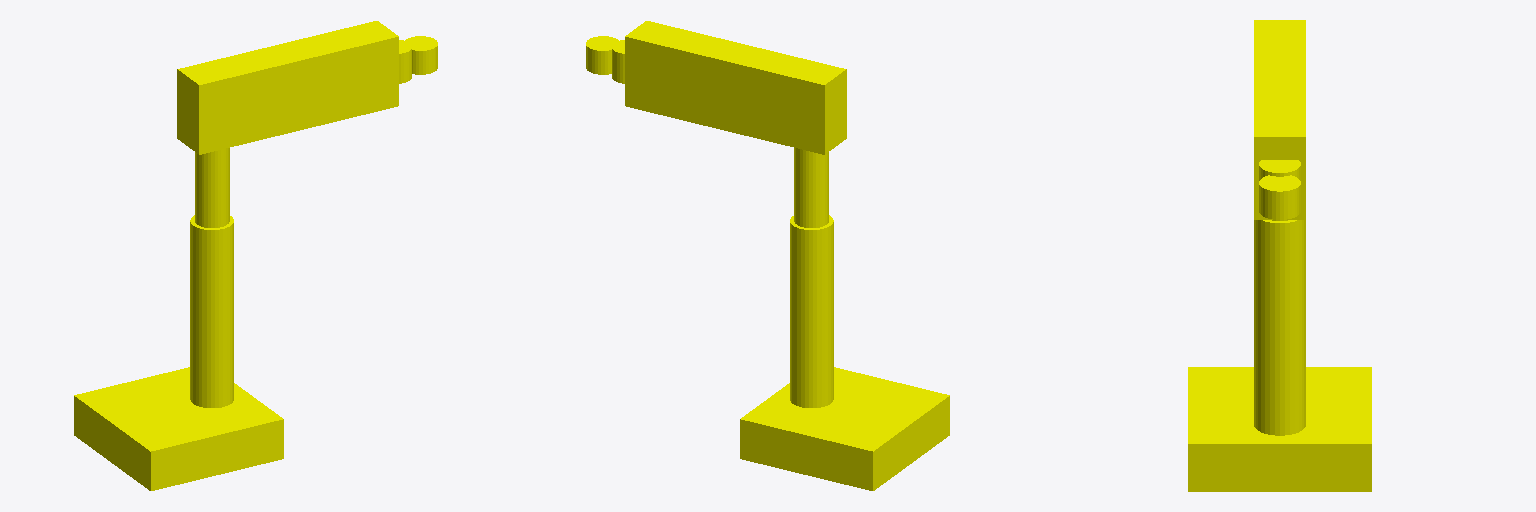
The robot description file, URDF, robot "abb_irb4600_60_205":
<?xml version="1.0" ?>
<!-- =================================================================================== -->
<!-- |    This document was autogenerated by xacro from urdf/irb4600_60_205.xacro      | -->
<!-- |    EDITING THIS FILE BY HAND IS NOT RECOMMENDED                                 | -->
<!-- =================================================================================== -->
<robot xmlns:xacro="http://ros.org/wiki/xacro" name="abb_irb4600_60_205">
  <link name="base_link">
    <collision name="collision">
      <geometry>
        <mesh filename="package://abb_irb4600_support/meshes/irb4600_60_205/collision/base_link.stl"/>
      </geometry>
    </collision>
    <visual name="visual">
      <geometry>
        <box size="0.7 0.7 0.2"/>
        <!-- <mesh filename="package://abb_irb4600_support/meshes/irb4600_60_205/visual/base_link.stl"/> -->
      </geometry>
      <material name="yellow">
        <color rgba="1 1 0 1"/>
      </material>
    </visual>
  </link>
  <link name="link_1">
    <collision name="collision">
      <geometry>
        <mesh filename="package://abb_irb4600_support/meshes/irb4600_60_205/collision/link_1.stl"/>
      </geometry>
    </collision>
    <visual name="visual">
      <geometry>
        <!-- <cylinder length="0.25" radius="0.08"/>   -->
        <!-- <box size="0.3 0.3 0.4"/> -->
        <mesh filename="package://abb_irb4600_support/meshes/irb4600_60_205/visual/link_1.stl"/>
      </geometry>
      <origin xyz="0 0 -0.25" rpy="0 0 0"/>
      <material name="yellow"/>
    </visual>
  </link>
  <link name="link_2">
    <collision name="collision">
      <geometry>
        <mesh filename="package://abb_irb4600_support/meshes/irb4600_60_205/collision/link_2.stl"/>
      </geometry>
    </collision>
    <visual name="visual">
      <geometry>
        <cylinder length="1" radius="0.1"/>
        <!-- <mesh filename="package://abb_irb4600_support/meshes/irb4600_60_205/visual/link_2.stl"/> -->
      </geometry>
      <origin xyz="0 0 0" rpy="0 0 0"/>
      <material name="yellow"/>
    </visual>
  </link>
  <link name="link_3">
    <collision name="collision">
      <geometry>
        <mesh filename="package://abb_irb4600_support/meshes/irb4600_60_205/collision/link_3.stl"/>
      </geometry>
    </collision>
    <visual name="visual">
      <geometry>
        <cylinder length="0.4" radius="0.08"/>
        <!-- <mesh filename="package://abb_irb4600_support/meshes/irb4600_60_205/visual/link_3.stl"/> -->
      </geometry>
      <origin xyz="0 0 -0.2" rpy="0 0 0"/>
      <material name="yellow"/>
    </visual>
  </link>
  <link name="link_4">
    <collision name="collision">
      <geometry>
        <mesh filename="package://abb_irb4600_support/meshes/irb4600_60_205/collision/link_4.stl"/>
      </geometry>
    </collision>
    <visual name="visual">
      <geometry>
        <!-- <cylinder length="0.7" radius="0.08"/> -->
        <box size="1.05 0.2 0.35"/>
        <!-- <mesh filename="package://abb_irb4600_support/meshes/irb4600_60_205/visual/link_4.stl"/> -->
      </geometry>
      <origin xyz="0.4 0 0" rpy="0 0 0"/>
      <material name="yellow"/>
    </visual>
  </link>
  <link name="link_5">
    <collision name="collision">
      <geometry>
        <mesh filename="package://abb_irb4600_support/meshes/irb4600_60_205/collision/link_5.stl"/>
      </geometry>
    </collision>
    <visual name="visual">
      <geometry>
        <cylinder length="0.15" radius="0.08"/>
        <!-- <mesh filename="package://abb_irb4600_support/meshes/irb4600_60_205/visual/link_5.stl"/> -->
      </geometry>
      <material name="yellow"/>
    </visual>
  </link>
  <link name="link_6">
    <collision name="collision">
      <geometry>
        <mesh filename="package://abb_irb4600_support/meshes/irb4600_60_205/collision/link_6.stl"/>
      </geometry>
    </collision>
    <visual name="visual">
      <geometry>
        <cylinder length="0.12" radius="0.08"/>
        <!-- <mesh filename="package://abb_irb4600_support/meshes/irb4600_60_205/visual/link_6.stl"/> -->
      </geometry>
      <material name="yellow"/>
    </visual>
  </link>
  <link name="tool0"/>
  <joint type="revolute" name="joint_1">
    <origin xyz="0 0 0.495" rpy="0 0 0"/>
    <!-- <origin xyz="0 0 0.595" rpy="0 0 0"/> -->
    <axis xyz="0 0 1"/>
    <parent link="base_link"/>
    <child link="link_1"/>
    <limit effort="0" lower="-3.141" upper="3.141" velocity="3.054"/>
  </joint>
  <joint type="revolute" name="joint_2">
    <origin xyz="0.175 0 0" rpy="0 0 0"/>
    <!-- <origin xyz="0.275 0 0" rpy="0 0 0"/> -->
    <axis xyz="0 1 0"/>
    <parent link="link_1"/>
    <child link="link_2"/>
    <limit effort="0" lower="-1.570" upper="2.617" velocity="3.054"/>
  </joint>
  <joint type="revolute" name="joint_3">
    <origin xyz="0 0 0.9" rpy="0 0 0"/>
    <axis xyz="0 1 0"/>
    <parent link="link_2"/>
    <child link="link_3"/>
    <limit effort="0" lower="-3.141" upper="1.308" velocity="3.054"/>
  </joint>
  <joint type="revolute" name="joint_4">
    <origin xyz="0 0 0.175" rpy="0 0 0"/>
    <axis xyz="1 0 0"/>
    <parent link="link_3"/>
    <child link="link_4"/>
    <limit effort="0" lower="-6.981" upper="6.981" velocity="4.363"/>
  </joint>
  <joint type="revolute" name="joint_5">
    <origin xyz="0.960 0 0 " rpy="0 0 0"/>
    <axis xyz="0 1 0"/>
    <parent link="link_4"/>
    <child link="link_5"/>
    <limit effort="0" lower="-2.181" upper="2.094" velocity="4.363"/>
  </joint>
  <joint type="revolute" name="joint_6">
    <origin xyz="0.135 0 0 " rpy="0 0 0"/>
    <axis xyz="1 0 0"/>
    <parent link="link_5"/>
    <child link="link_6"/>
    <limit effort="0" lower="-6.981" upper="6.981" velocity="6.283"/>
  </joint>
  <joint type="fixed" name="joint_6-tool0">
    <parent link="link_6"/>
    <child link="tool0"/>
    <origin xyz="0 0 0" rpy="0 1.57079632679 0"/>
  </joint>
  <link name="base"/>
  <joint name="base_link-base" type="fixed">
    <origin xyz="0 0 0" rpy="0 0 0"/>
    <parent link="base_link"/>
    <child link="base"/>
  </joint>
</robot>

--- Facts derived from the render (not from the file) ---
3 views of the same robot in one strip: view 1: azimuth 30°, elevation 25°; view 2: azimuth 150°, elevation 25°; view 3: azimuth 270°, elevation 25° (orthographic).
Model abb_irb4600_60_205 with 9 links and 8 joints (6 revolute, 2 fixed), rooted at base_link, posed every joint at zero.
Visible links, largest first — view 1: link_4, base_link, link_2, link_3, link_6, link_5; view 2: link_4, base_link, link_2, link_3, link_6, link_5; view 3: base_link, link_2, link_4, link_6, link_5.
Link boxes in pixels (bbox=[...]): link_4: bbox=[177, 21, 398, 154]; base_link: bbox=[74, 367, 283, 490]; link_2: bbox=[190, 215, 233, 407]; link_3: bbox=[195, 148, 229, 227]; link_6: bbox=[405, 36, 437, 74]; link_5: bbox=[399, 40, 411, 83]; link_4: bbox=[625, 21, 846, 154]; base_link: bbox=[740, 367, 949, 490]; link_2: bbox=[790, 215, 833, 407]; link_3: bbox=[794, 148, 828, 227]; link_6: bbox=[586, 36, 618, 74]; link_5: bbox=[612, 40, 624, 83]; base_link: bbox=[1188, 367, 1371, 491]; link_2: bbox=[1254, 220, 1305, 435]; link_4: bbox=[1254, 20, 1305, 219]; link_6: bbox=[1259, 175, 1300, 219]; link_5: bbox=[1259, 160, 1300, 180].
Size in the robot's own frame: 1.7 by 0.7 by 1.84 metres.
0 mesh visuals loaded from 1 distinct referenced files (none loaded); not drawn: 1 (reference not matched to a file when rendering).